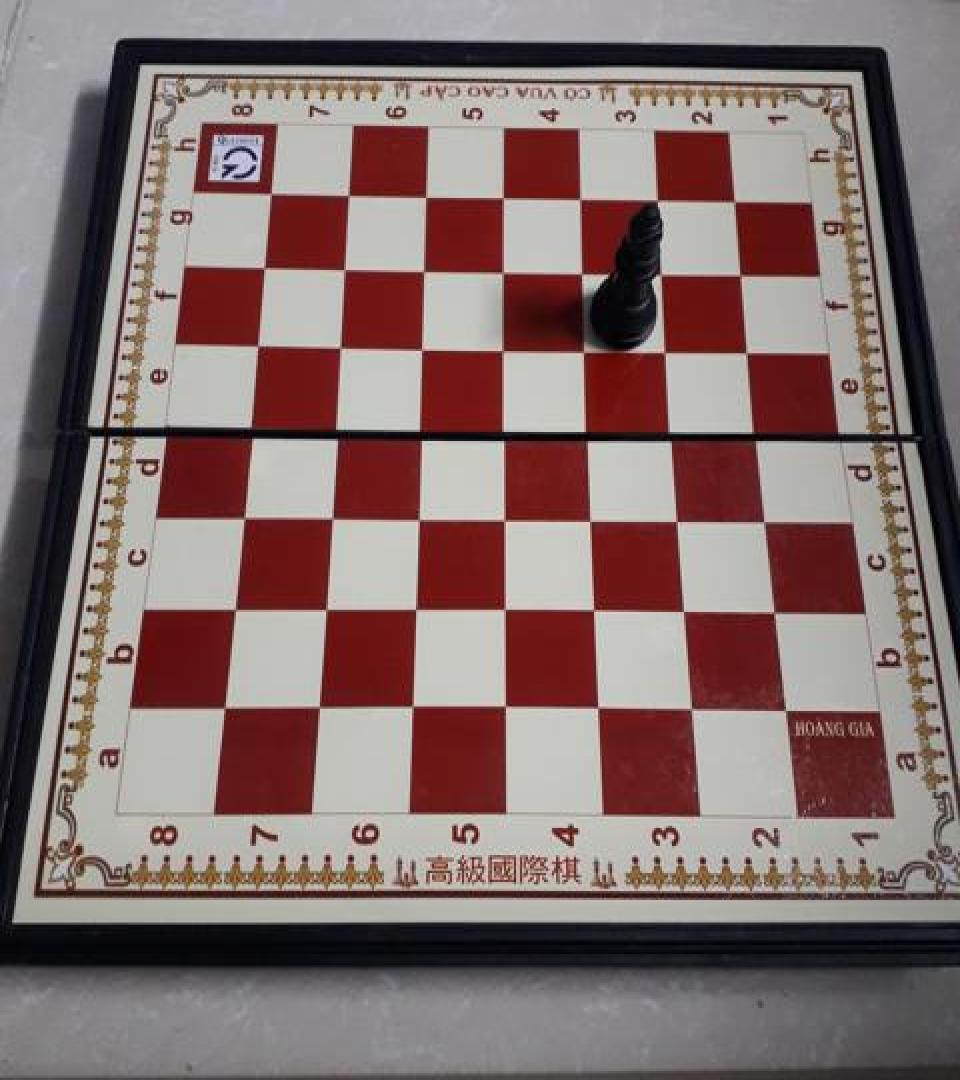xcorner: (211, 688, 243, 725), (305, 689, 337, 726), (399, 689, 431, 726), (492, 689, 524, 726), (220, 588, 252, 625), (586, 691, 618, 727), (678, 691, 710, 727), (770, 692, 802, 728), (311, 590, 343, 626), (402, 590, 434, 626), (492, 590, 524, 626), (582, 590, 614, 626), (671, 592, 703, 628), (760, 593, 792, 629), (229, 495, 261, 531), (317, 495, 349, 531), (404, 496, 436, 532), (492, 497, 524, 533), (579, 498, 611, 534), (665, 500, 697, 536), (751, 500, 783, 536), (237, 407, 269, 443), (322, 408, 354, 444), (407, 410, 439, 446), (491, 410, 523, 446), (576, 412, 608, 448), (659, 412, 691, 448), (743, 413, 775, 449), (244, 325, 276, 361), (327, 326, 359, 362), (409, 328, 441, 364), (573, 330, 605, 366), (654, 331, 686, 367), (735, 332, 767, 368), (252, 248, 284, 284), (332, 248, 364, 284), (411, 250, 443, 286), (491, 252, 523, 288), (570, 253, 602, 289), (649, 254, 681, 290), (727, 256, 759, 292), (258, 174, 290, 210), (336, 176, 368, 212), (414, 178, 446, 214), (491, 179, 523, 215), (567, 180, 599, 216), (644, 182, 676, 218), (720, 184, 752, 220), (491, 329, 523, 364)
